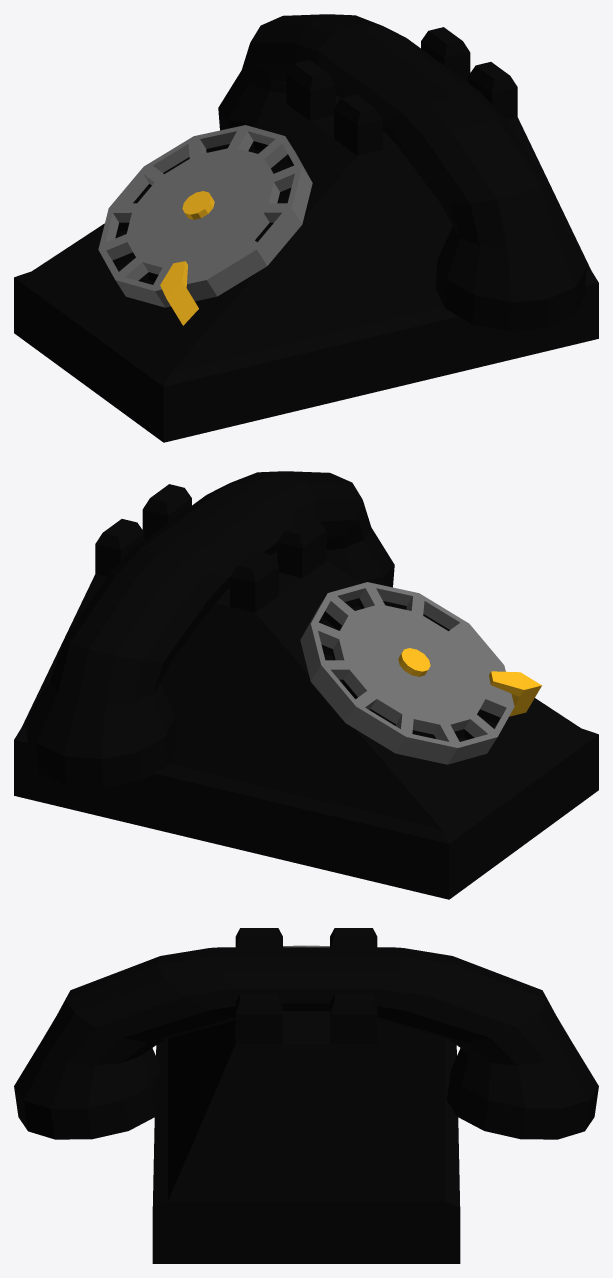
Rendered from Phone.obj.
3 renders of one model, top to bottom at view 1: azimuth 30°, elevation 25°; view 2: azimuth 150°, elevation 25°; view 3: azimuth 270°, elevation 25°, orthographic.
Parts seen in each view (by area): view 1: Phone_Cylinder.008; view 2: Phone_Cylinder.008; view 3: Phone_Cylinder.008.
Part boxes in pixels (x1,y1,x2,y2): Phone_Cylinder.008: [14, 14, 598, 442]; Phone_Cylinder.008: [14, 471, 598, 899]; Phone_Cylinder.008: [14, 928, 598, 1263].
Size of the model in its own units: 2.68 by 1.48 by 3.14.
1 material, 1 textured.
